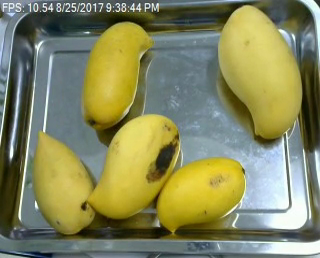Mango: (215, 2, 306, 142), (85, 109, 179, 226), (74, 12, 156, 126), (27, 124, 101, 229), (152, 156, 246, 237)
